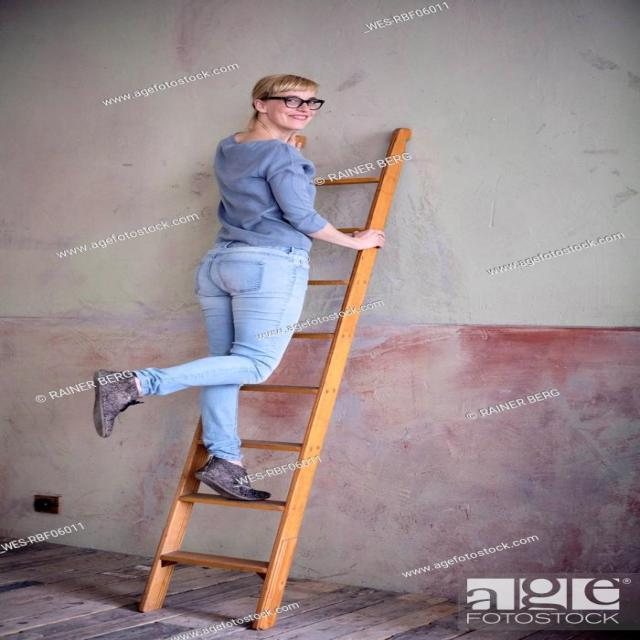walking: (62, 50, 402, 536)
